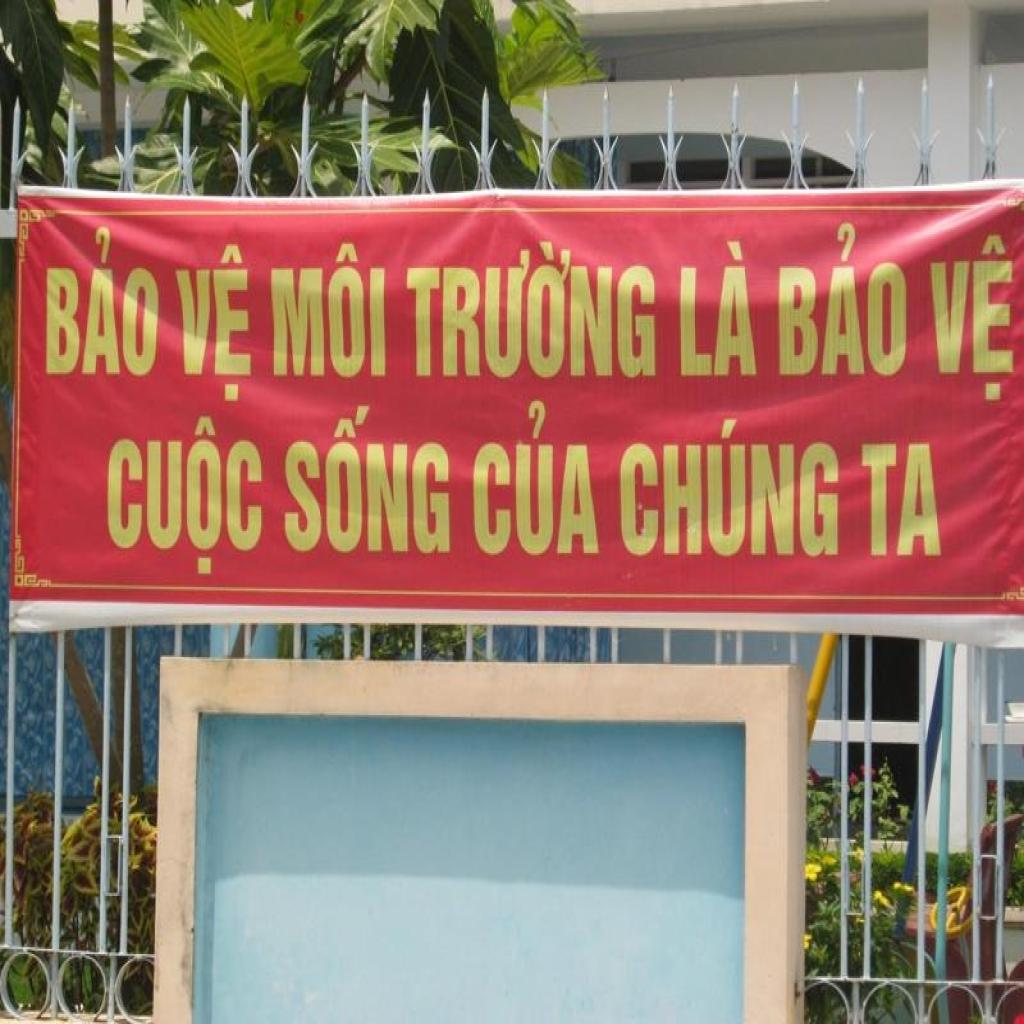text: (404, 241, 658, 379), (619, 417, 841, 558), (283, 404, 453, 556), (108, 414, 264, 578), (777, 222, 909, 379), (470, 399, 600, 558), (44, 223, 160, 379), (272, 242, 386, 379), (928, 234, 1015, 401), (172, 242, 254, 403), (680, 241, 759, 377)
